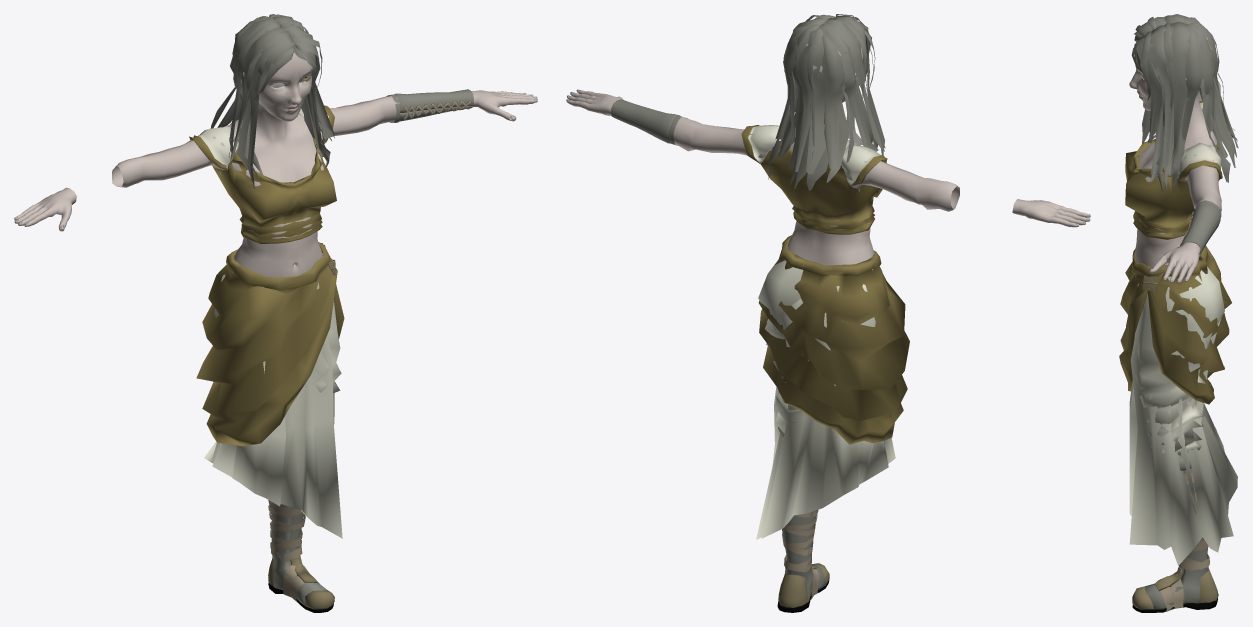
The model's file is player.dae.
3 renders of one model, left to right at view 1: azimuth 30°, elevation 25°; view 2: azimuth 150°, elevation 25°; view 3: azimuth 270°, elevation 25°, orthographic.
Visible parts, largest first — view 1: Cube_003, GEO-body_003, Cube_007, ishtarian_woman_03, Cube_002, ishtarian_woman_0_005, ishtarian_woman_0_004, ishtarian_woman_0_002, Cube; view 2: Cube_003, ishtarian_woman_03, GEO-body_003, Cube_007, Cube_002, ishtarian_woman_0_005, Cube, ishtarian_woman_0_004, ishtarian_woman_0_002; view 3: Cube_007, ishtarian_woman_03, Cube_003, Cube, GEO-body_003, Cube_002, ishtarian_woman_0_005, ishtarian_woman_0_004, ishtarian_woman_0_002, ishtarian_woman_0_003, ishtarian_woman_0_008, Cube_008.
Boxes of the visible parts, left/top/right/bottom form: Cube_003: left=196, top=242, right=344, bottom=446; GEO-body_003: left=14, top=52, right=537, bottom=277; Cube_007: left=204, top=274, right=342, bottom=538; ishtarian_woman_03: left=210, top=14, right=334, bottom=188; Cube_002: left=189, top=105, right=336, bottom=244; ishtarian_woman_0_005: left=268, top=500, right=334, bottom=612; ishtarian_woman_0_004: left=386, top=89, right=473, bottom=122; ishtarian_woman_0_002: left=268, top=501, right=305, bottom=560; Cube: left=312, top=249, right=341, bottom=393; Cube_003: left=758, top=235, right=909, bottom=444; ishtarian_woman_03: left=768, top=14, right=885, bottom=190; GEO-body_003: left=566, top=43, right=1090, bottom=269; Cube_007: left=756, top=284, right=895, bottom=539; Cube_002: left=741, top=125, right=887, bottom=234; ishtarian_woman_0_005: left=777, top=510, right=829, bottom=612; Cube: left=758, top=259, right=803, bottom=438; ishtarian_woman_0_004: left=611, top=99, right=681, bottom=145; ishtarian_woman_0_002: left=782, top=510, right=818, bottom=571; Cube_007: left=1129, top=251, right=1237, bottom=565; ishtarian_woman_03: left=1131, top=14, right=1238, bottom=191; Cube_003: left=1119, top=245, right=1231, bottom=404; Cube: left=1135, top=266, right=1224, bottom=456; GEO-body_003: left=1129, top=27, right=1221, bottom=408; Cube_002: left=1125, top=100, right=1222, bottom=239; ishtarian_woman_0_005: left=1132, top=457, right=1218, bottom=612; ishtarian_woman_0_004: left=1180, top=200, right=1221, bottom=253; ishtarian_woman_0_002: left=1179, top=472, right=1209, bottom=570; ishtarian_woman_0_003: left=1161, top=571, right=1185, bottom=611; ishtarian_woman_0_008: left=1154, top=566, right=1181, bottom=590; Cube_008: left=1142, top=275, right=1157, bottom=291.
Size of the model in its own units: 1.52 by 0.3092 by 1.64.
